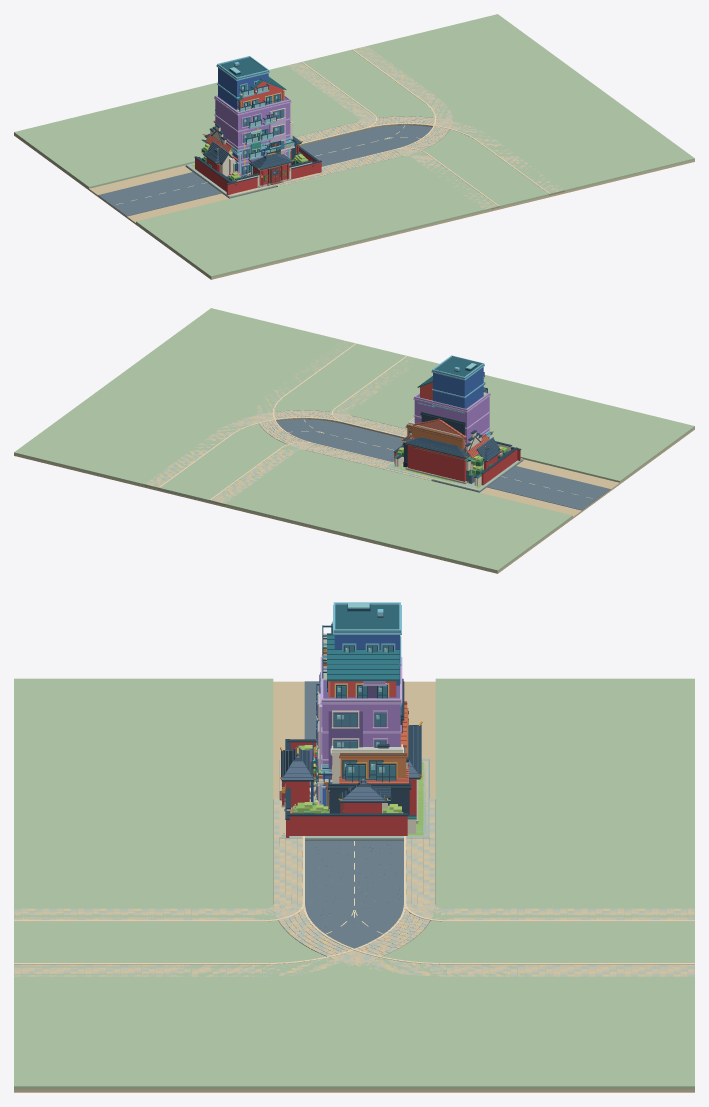
Rendered from modules.glb.
3 views of the same model, one above another, from view 1: azimuth 30°, elevation 25°; view 2: azimuth 150°, elevation 25°; view 3: azimuth 270°, elevation 25° (orthographic). The views are drawn at different scales.
Visible parts, largest first — view 1: bend-left · Demo · courtyard, bend-right · Demo · courtyard, road · Demo · courtyard, road · Demo · asphalt, bend-left · Street | paver, road · Demo · sand, lavender-corner · Housing | purple, bend-left · Street | paver hot, vermilion-courtyard · Housing | court_red, bend-left · Street | paver cool, bend-right · Street | paver, lavender-corner · Housing | lilac (+14 smaller); view 2: bend-left · Demo · courtyard, road · Demo · courtyard, bend-right · Demo · courtyard, road · Demo · asphalt, bend-left · Street | paver, road · Demo · sand, vermilion-courtyard · Housing | court_red, ocean-terraces · Housing | cobalt, bend-left · Street | paver hot, lavender-corner · Housing | purple, bend-left · Street | paver cool, bend-right · Street | paver (+11 smaller); view 3: bend-left · Demo · courtyard, bend-right · Demo · courtyard, road · Demo · courtyard, bend-left · Street | paver, road · Demo · asphalt, bend-right · Street | paver, road · Demo · sand, bend-left · Street | paver hot, bend-left · Street | paver cool, vermilion-courtyard · Housing | court_red, bend-left · Demo · sand, bend-right · Street | paver hot (+18 smaller).
Boxes of the visible parts, bbox=[...] form: bend-left · Demo · courtyard: bbox=[157, 14, 694, 243]; bend-right · Demo · courtyard: bbox=[161, 14, 693, 242]; road · Demo · courtyard: bbox=[14, 64, 495, 277]; road · Demo · asphalt: bbox=[98, 127, 408, 216]; bend-left · Street | paver: bbox=[276, 46, 452, 186]; road · Demo · sand: bbox=[14, 134, 431, 279]; lavender-corner · Housing | purple: bbox=[215, 99, 290, 177]; bend-left · Street | paver hot: bbox=[284, 47, 452, 184]; vermilion-courtyard · Housing | court_red: bbox=[195, 145, 321, 194]; bend-left · Street | paver cool: bbox=[280, 46, 452, 185]; bend-right · Street | paver: bbox=[357, 116, 562, 208]; lavender-corner · Housing | lilac: bbox=[214, 95, 291, 175]; bend-left · Demo · courtyard: bbox=[14, 308, 551, 537]; road · Demo · courtyard: bbox=[214, 358, 694, 571]; bend-right · Demo · courtyard: bbox=[15, 308, 551, 536]; road · Demo · asphalt: bbox=[300, 420, 610, 510]; bend-left · Street | paver: bbox=[147, 410, 428, 503]; road · Demo · sand: bbox=[214, 428, 694, 573]; vermilion-courtyard · Housing | court_red: bbox=[394, 445, 520, 485]; ocean-terraces · Housing | cobalt: bbox=[433, 367, 483, 408]; bend-left · Street | paver hot: bbox=[149, 410, 424, 502]; lavender-corner · Housing | purple: bbox=[414, 396, 489, 446]; bend-left · Street | paver cool: bbox=[145, 410, 432, 501]; bend-right · Street | paver: bbox=[257, 340, 416, 449]; bend-left · Demo · courtyard: bbox=[14, 798, 694, 1089]; bend-right · Demo · courtyard: bbox=[14, 798, 694, 1086]; road · Demo · courtyard: bbox=[14, 678, 694, 916]; bend-left · Street | paver: bbox=[274, 798, 694, 976]; road · Demo · asphalt: bbox=[304, 681, 403, 905]; bend-right · Street | paver: bbox=[14, 903, 434, 976]; road · Demo · sand: bbox=[273, 681, 435, 799]; bend-left · Street | paver hot: bbox=[274, 804, 694, 976]; bend-left · Street | paver cool: bbox=[274, 798, 694, 976]; vermilion-courtyard · Housing | court_red: bbox=[286, 742, 416, 837]; bend-left · Demo · sand: bbox=[14, 1089, 694, 1092]; bend-right · Street | paver hot: bbox=[14, 903, 431, 976].
Bounding box in the file's own units: 68 × 14.4 × 48.
